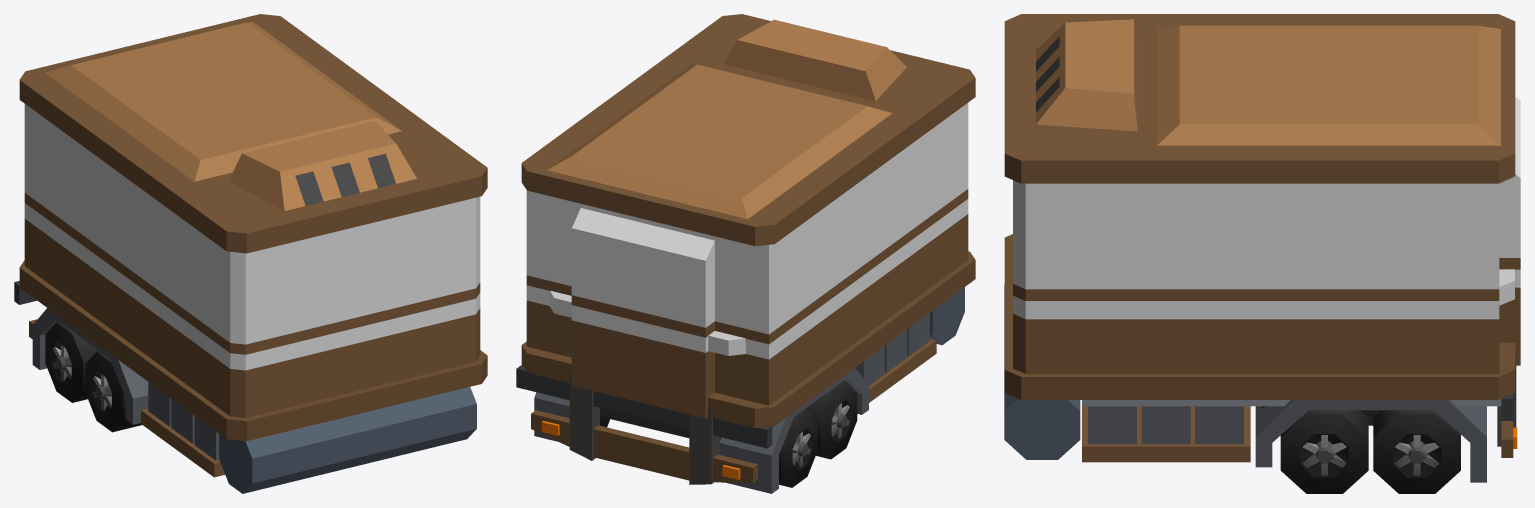
Rendered from cargo_03_B_1.fbx.
The picture shows the model from 3 angles, left to right: view 1: azimuth 30°, elevation 25°; view 2: azimuth 150°, elevation 25°; view 3: azimuth 270°, elevation 25°; orthographic projection. The views are drawn at different scales.
Visible parts, largest first — view 1: cargo_03_B_1; view 2: cargo_03_B_1; view 3: cargo_03_B_1.
Part boxes in pixels (x1,y1,x2,y2): cargo_03_B_1: [14, 14, 487, 493]; cargo_03_B_1: [516, 14, 975, 493]; cargo_03_B_1: [1004, 14, 1520, 493].
Size of the model in its own units: 1409 by 1659 by 2095.
